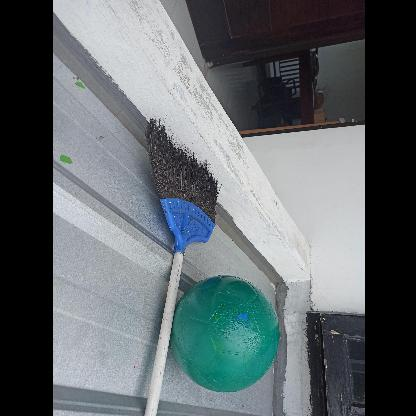green_ball: (166, 279, 280, 393)
